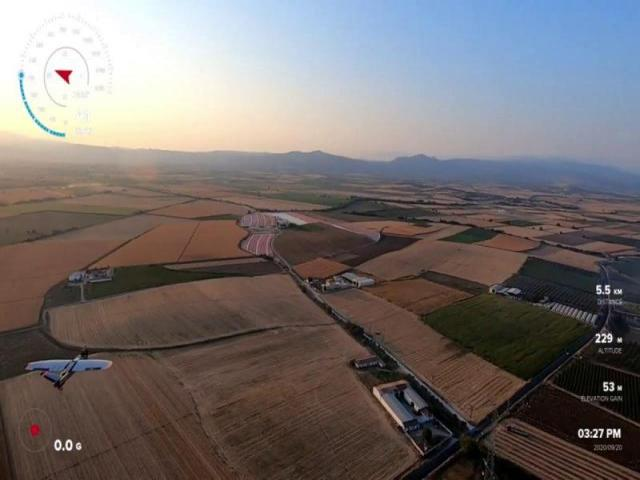hedef: (19, 338, 117, 401)
